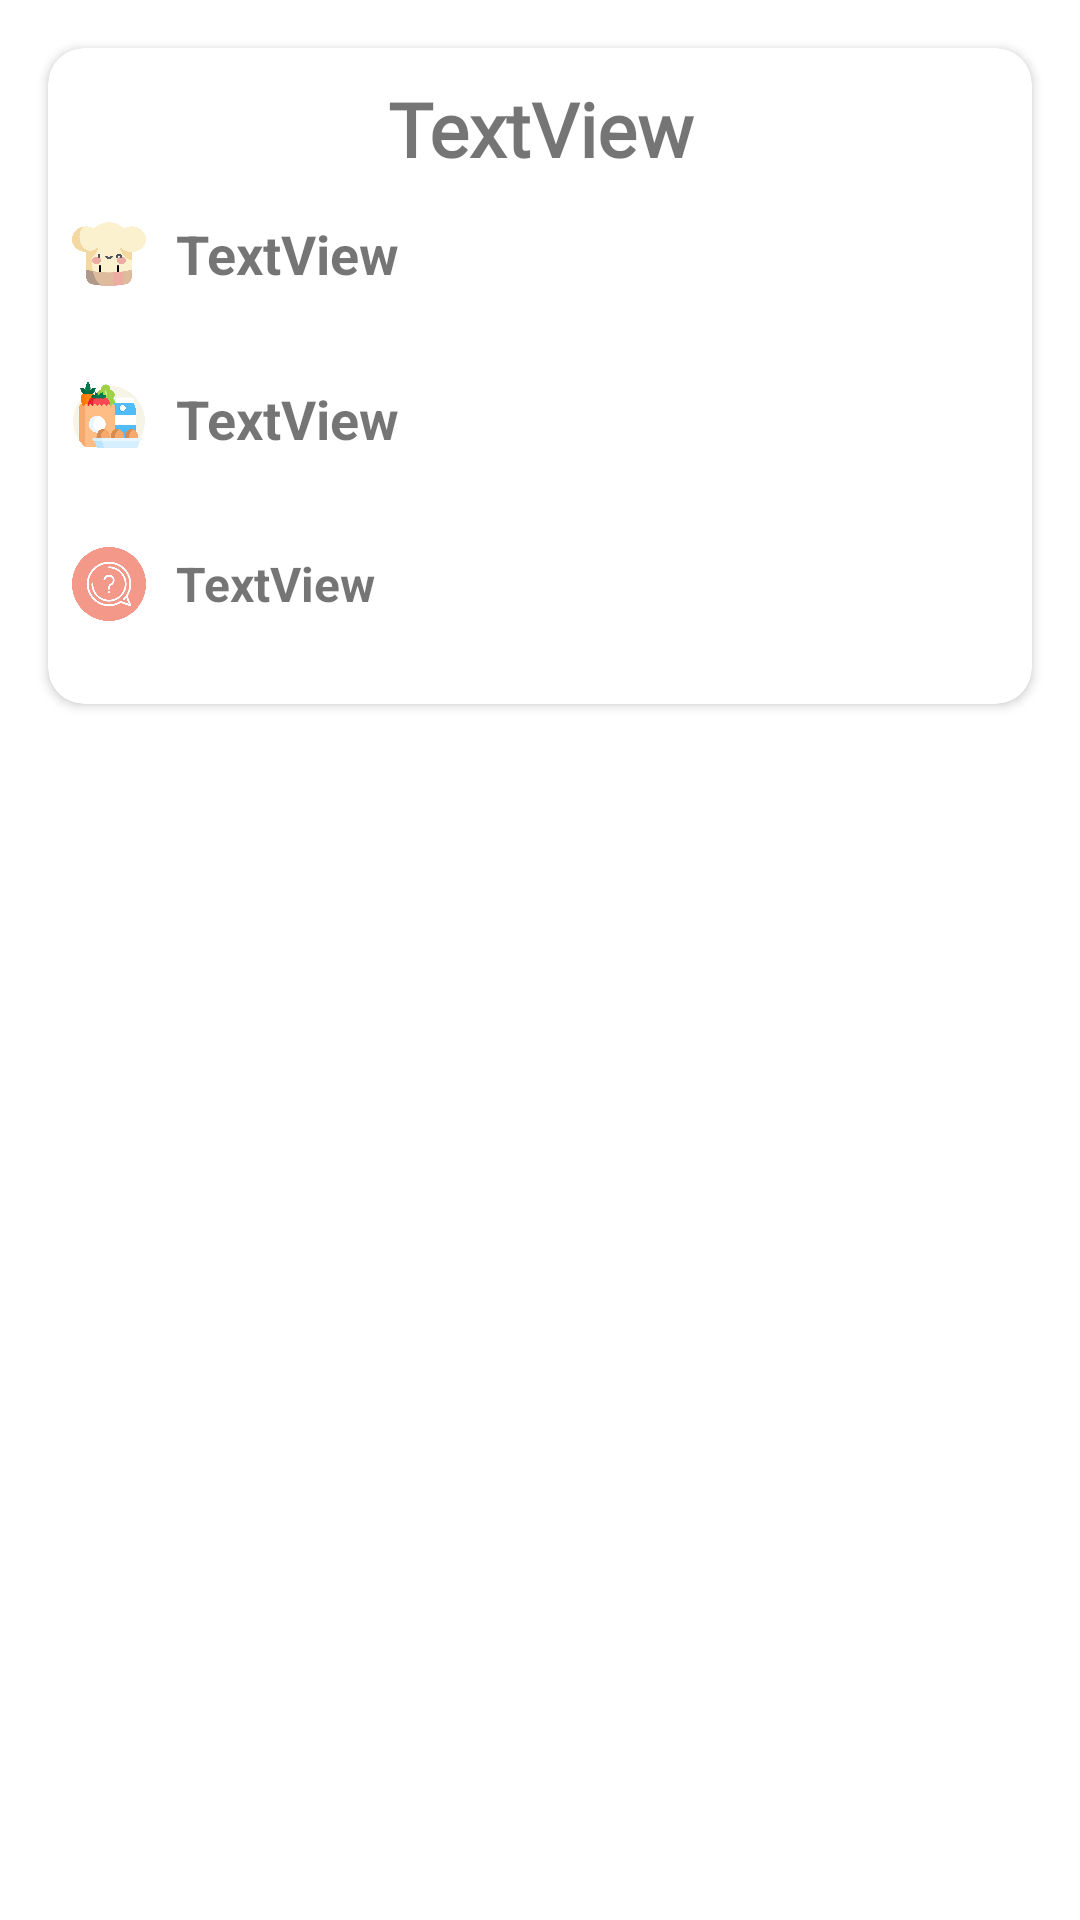

Point at icon controls on the screen. Image size 1080px×1920px, points as (x=x, y=y).
chef: (x=109, y=254)
info: (x=109, y=584)
ingredients: (x=108, y=415)
